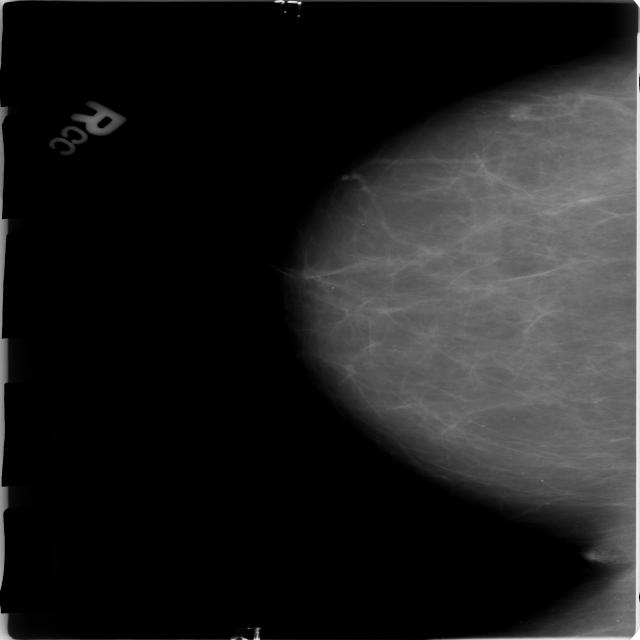normal: (270, 33, 640, 536)
